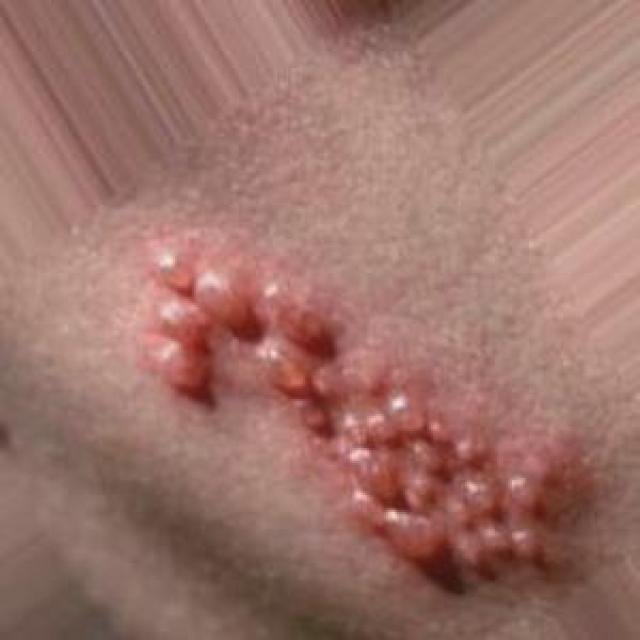Shingles: (149, 251, 555, 568)
